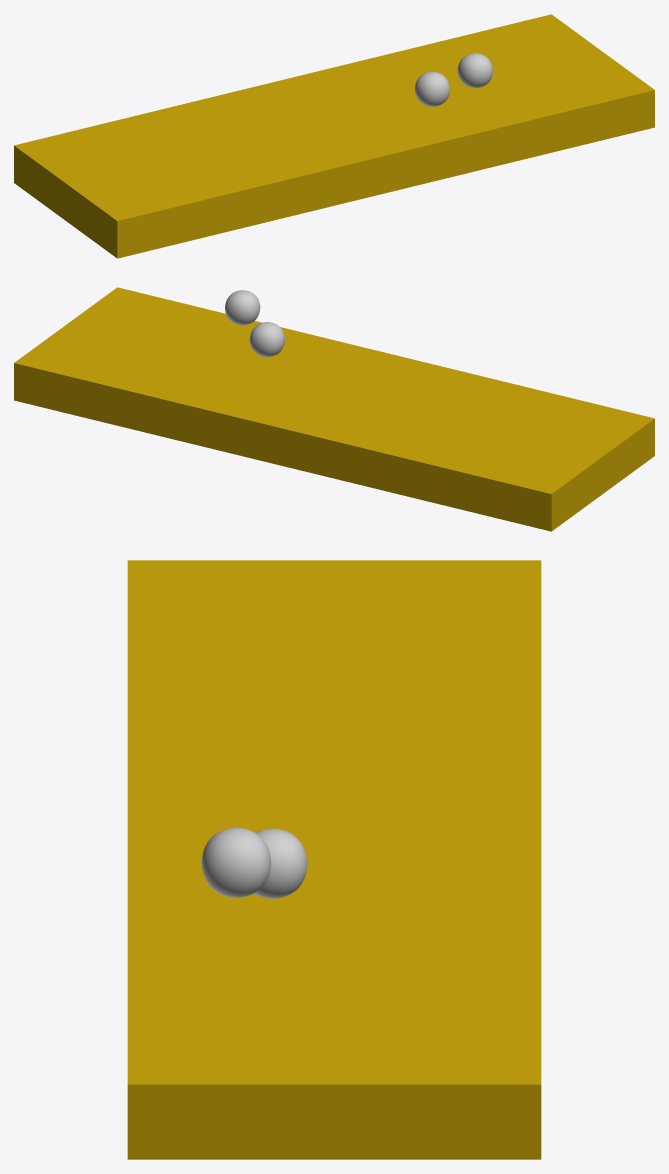
3 renders of one model, top to bottom at view 1: azimuth 30°, elevation 25°; view 2: azimuth 150°, elevation 25°; view 3: azimuth 270°, elevation 25°, orthographic. The views are drawn at different scales.
Visible parts, largest first — view 1: Cube, Sphere_Transparent, Sphere_Reflective; view 2: Cube, Sphere_Transparent, Sphere_Reflective; view 3: Cube, Sphere_Transparent, Sphere_Reflective.
Part boxes in pixels (left/top/right/bottom): Cube: left=14, top=14, right=654, bottom=258; Sphere_Transparent: left=457, top=53, right=492, bottom=88; Sphere_Reflective: left=414, top=71, right=450, bottom=106; Cube: left=14, top=287, right=654, bottom=531; Sphere_Transparent: left=225, top=290, right=260, bottom=325; Sphere_Reflective: left=249, top=322, right=284, bottom=357; Cube: left=127, top=560, right=541, bottom=1159; Sphere_Transparent: left=201, top=827, right=271, bottom=897; Sphere_Reflective: left=254, top=828, right=307, bottom=898.
Size of the model in its own units: 30 by 4.79 by 10.
